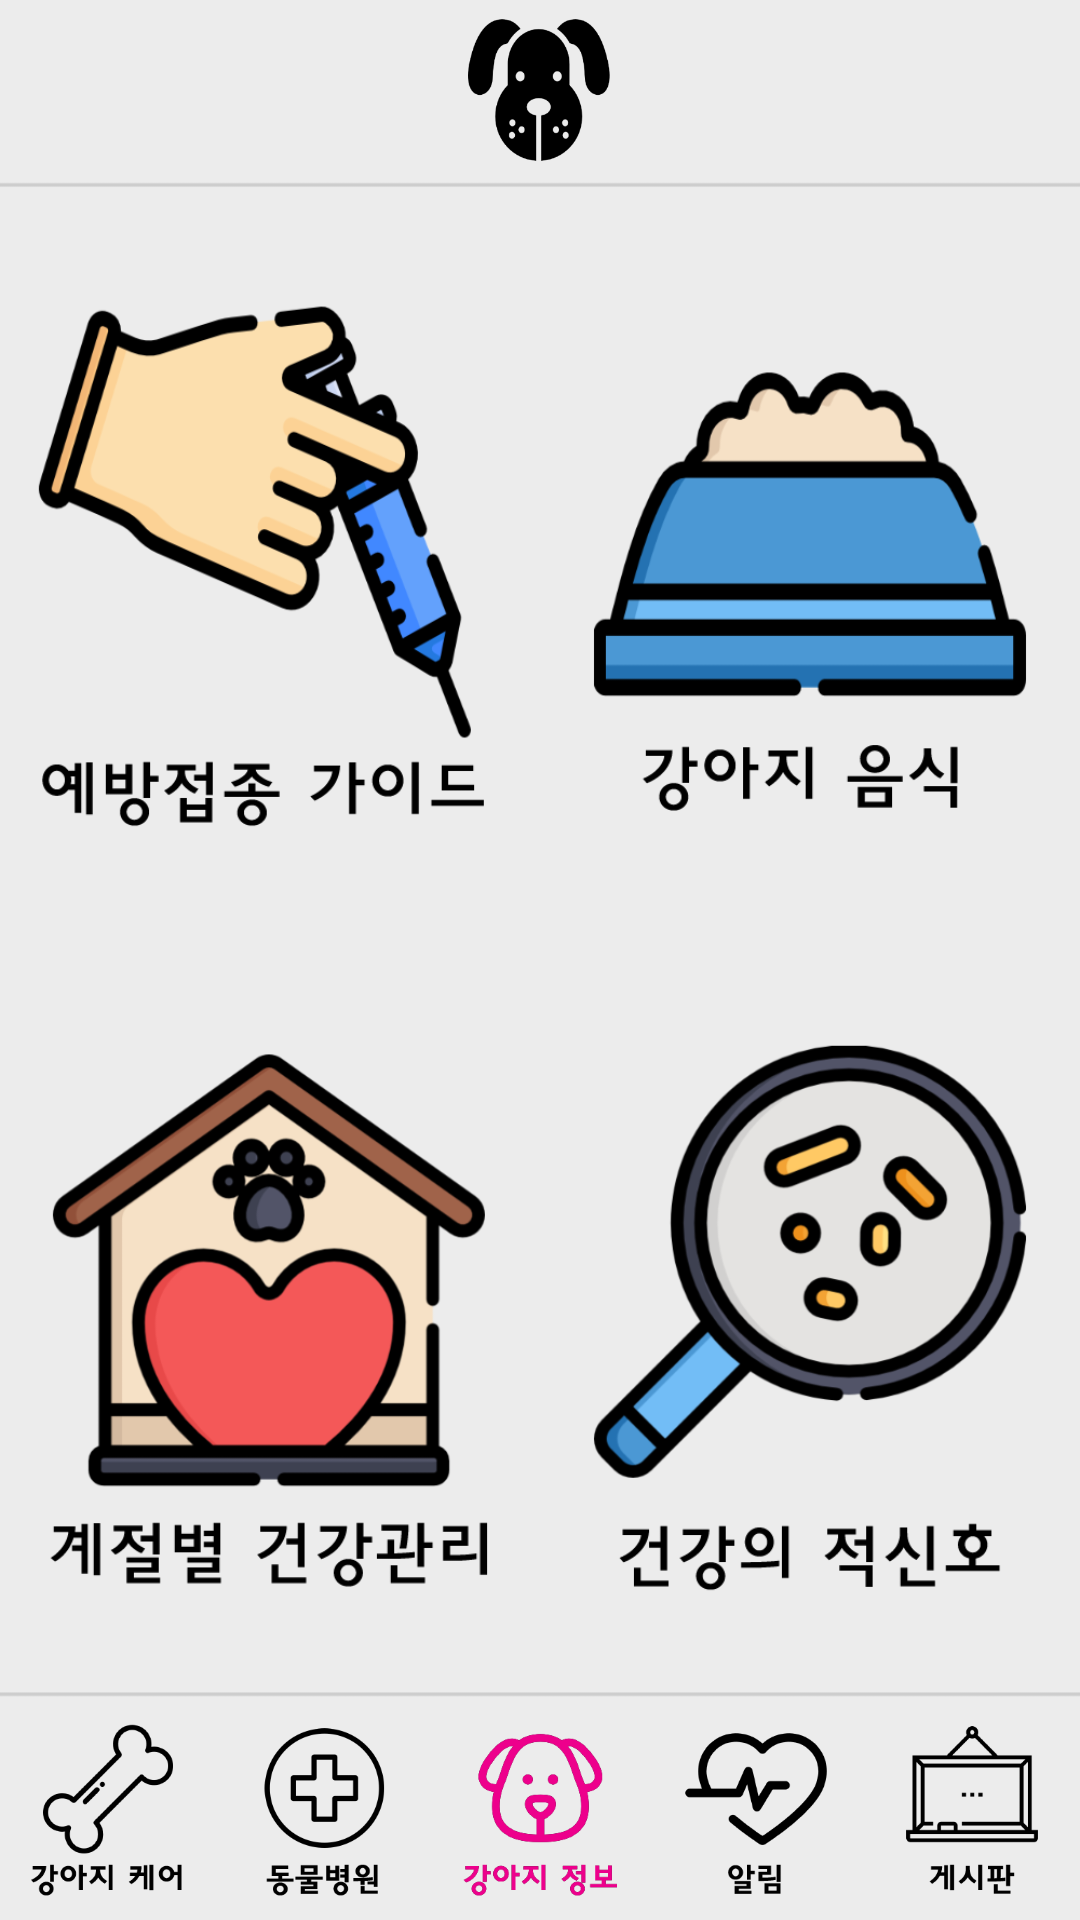

Locate icon controls on the screen. Image size 1080 x 1920, boxes as Rect(x1, y1, x2, y2).
dogdogface: Rect(468, 19, 610, 161)
